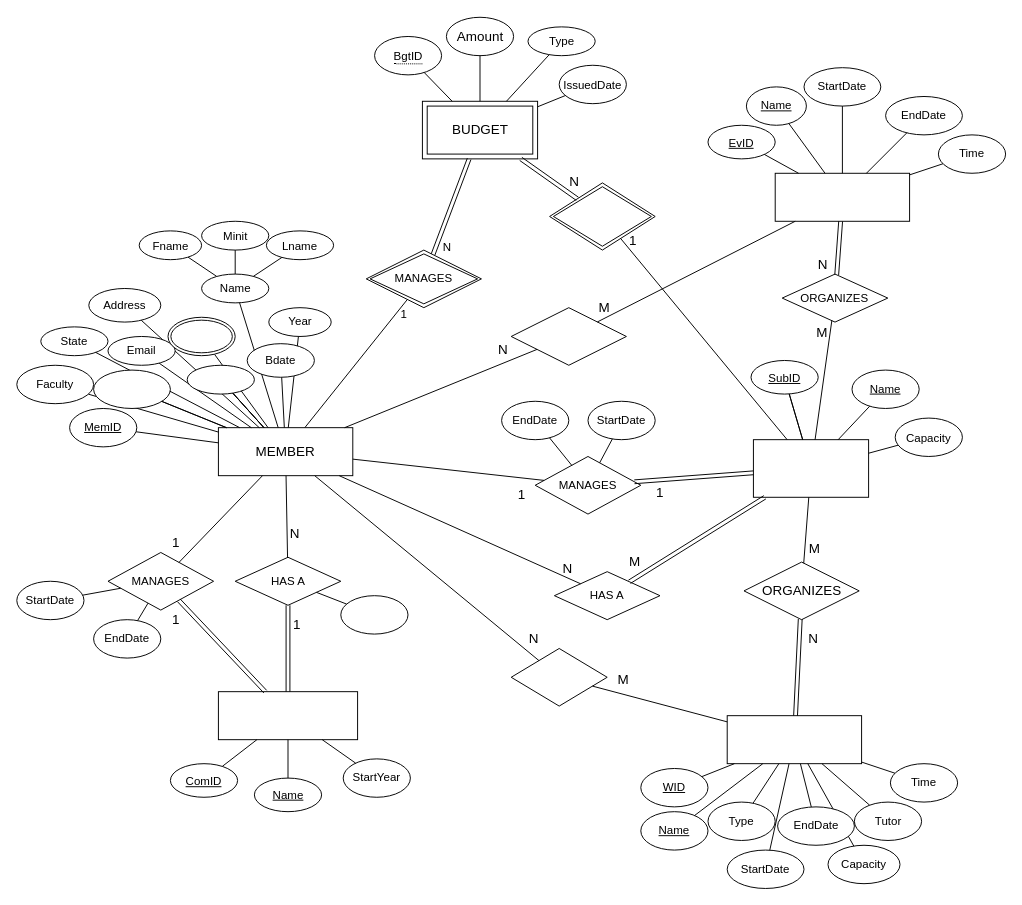
Some shapes in this 1022 by 905 pixel diagram are drawn without their labels. The centre of each missing label's shape, as x and y in pixels:
"ATTENDS" goes at pixel 568 336.
"COMMITTEE" goes at pixel 287 715.
"Department" goes at pixel 131 388.
"EVENT" goes at pixel 842 196.
"IssuedTo" goes at pixel 602 216.
"Phone" goes at pixel 201 336.
"Position" goes at pixel 374 614.
"Sex" goes at pixel 220 379.
"SUBUNIT" goes at pixel 810 468.
"TAKES" goes at pixel 558 677.
"WORKSHOP" goes at pixel 794 739.
